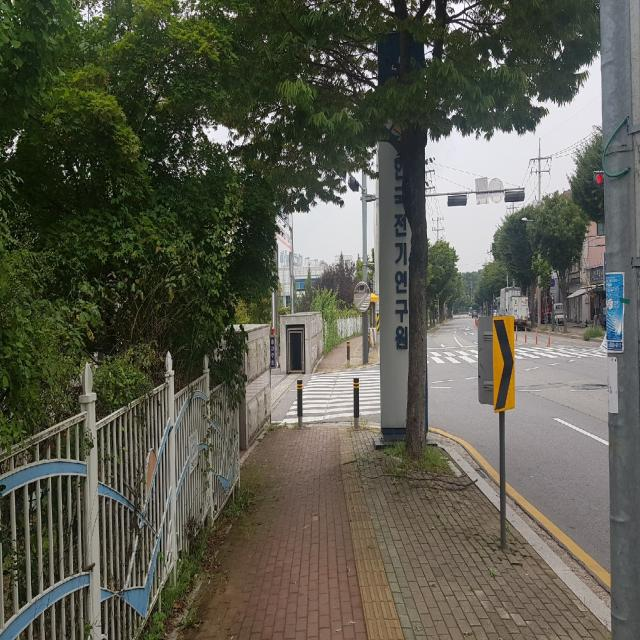횡단보도: (282, 370, 381, 424), (428, 344, 607, 364)
